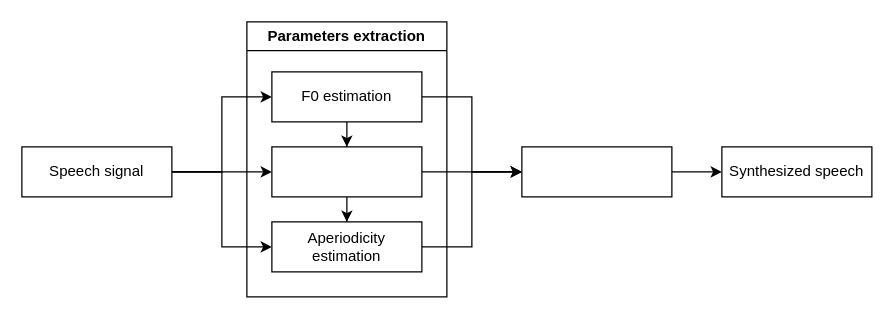
This 894x319 diagram has some shape labels left out. The centre of each missing label's shape, as x and y in pixels:
"Spectral envelope estimation" belongs at (x=346, y=171).
"Vocoder" belongs at (x=596, y=171).
